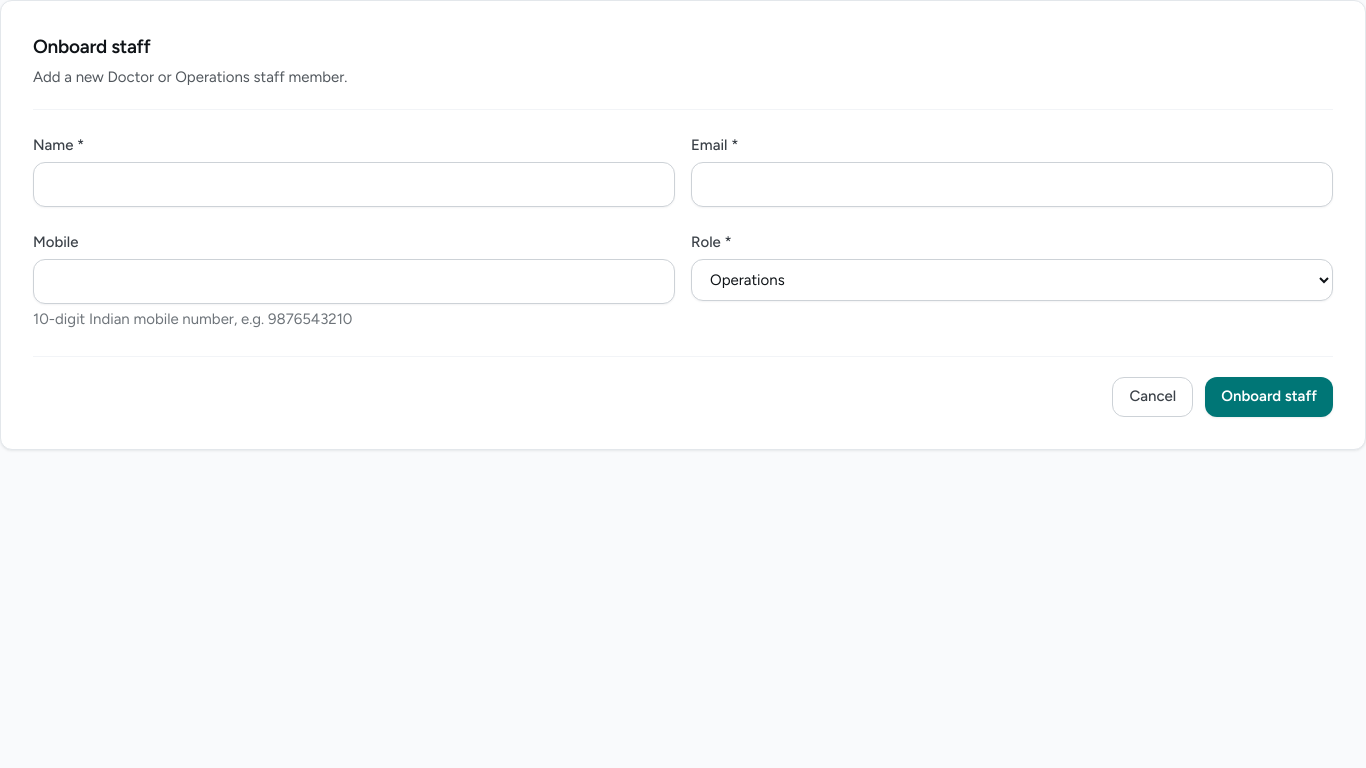
Test: OnboardStaffForm › surfaces a duplicate-email server error
Type "Jane Ops" into the field labelled "Name *".
click(354, 184); type("Jane Ops")  # box 33,162 -> 675,207
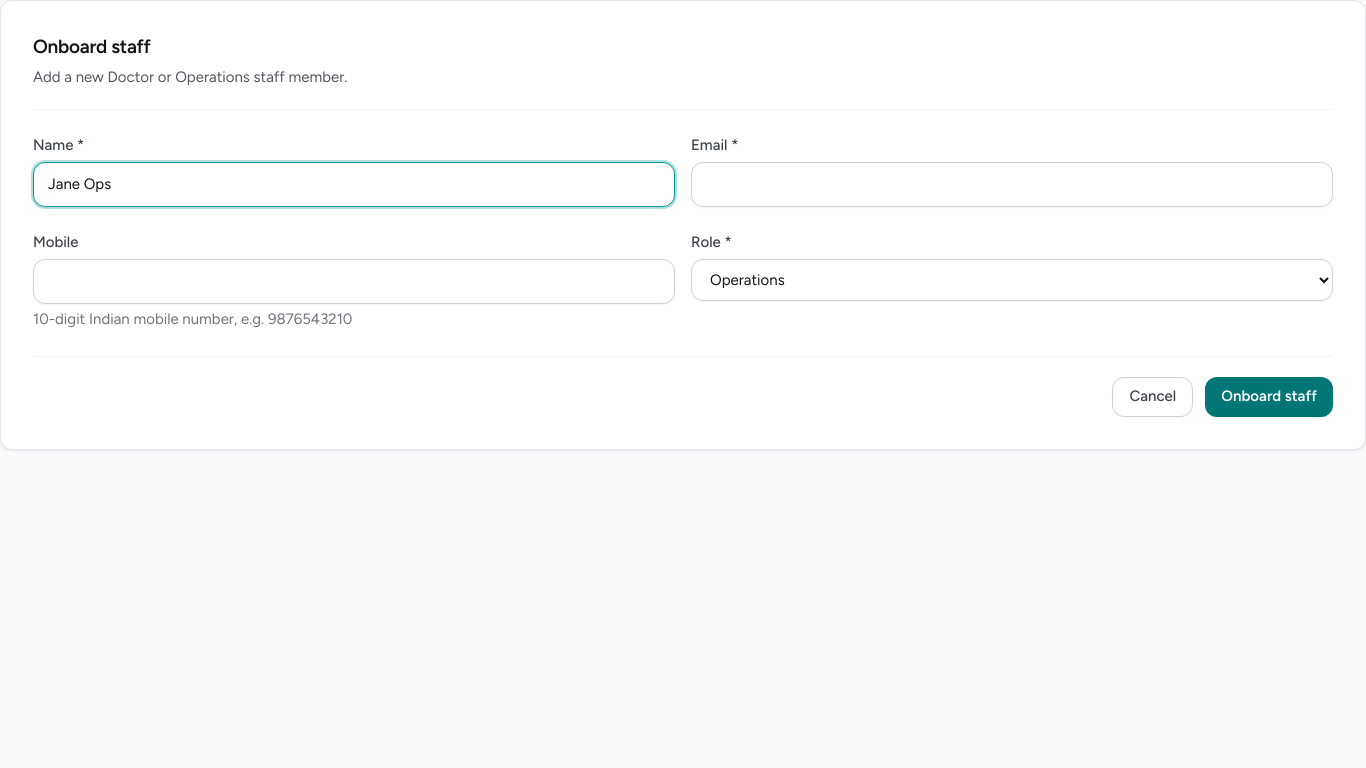
Type "ops@clinic.example" into the field labelled "Email *".
click(1012, 184); type("ops@clinic.example")  # box 691,162 -> 1333,207
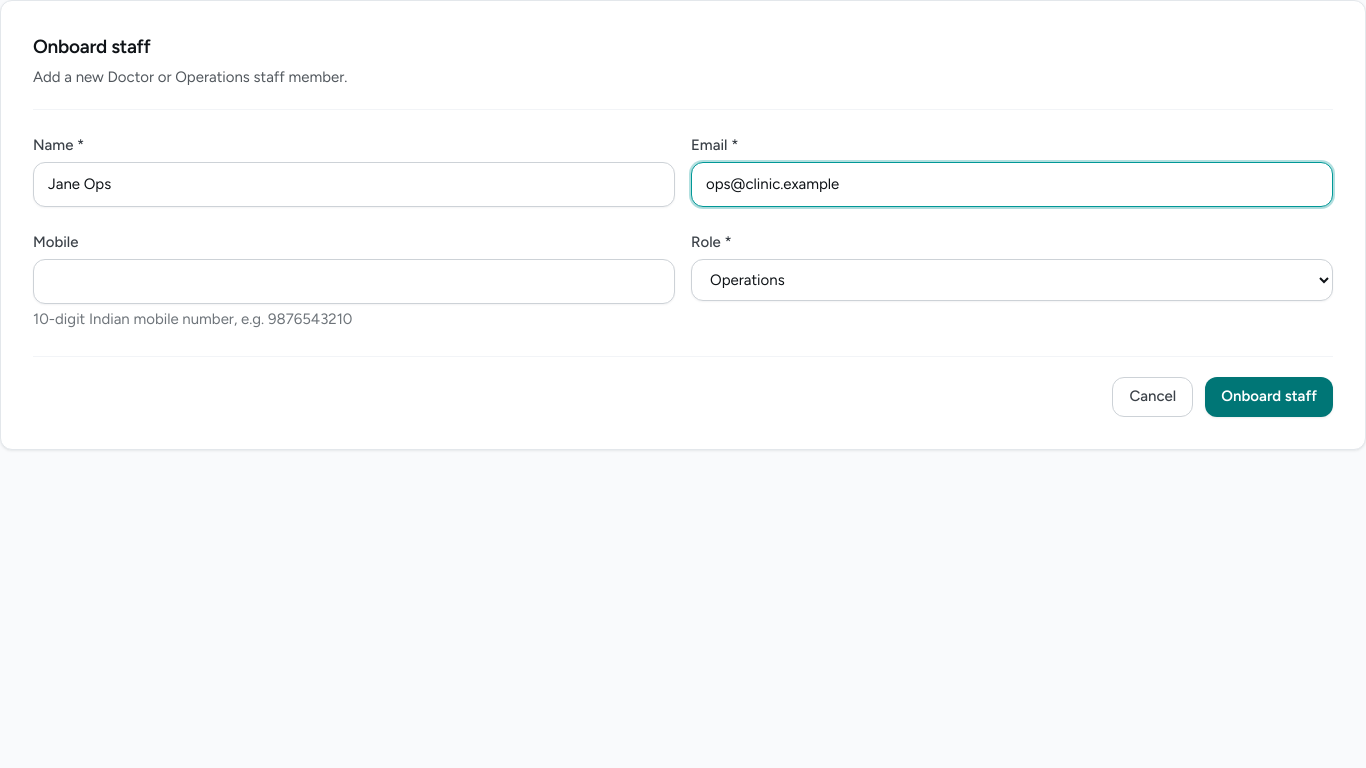
Click the button "Onboard staff".
click(1269, 397)  # box 1205,377 -> 1333,417
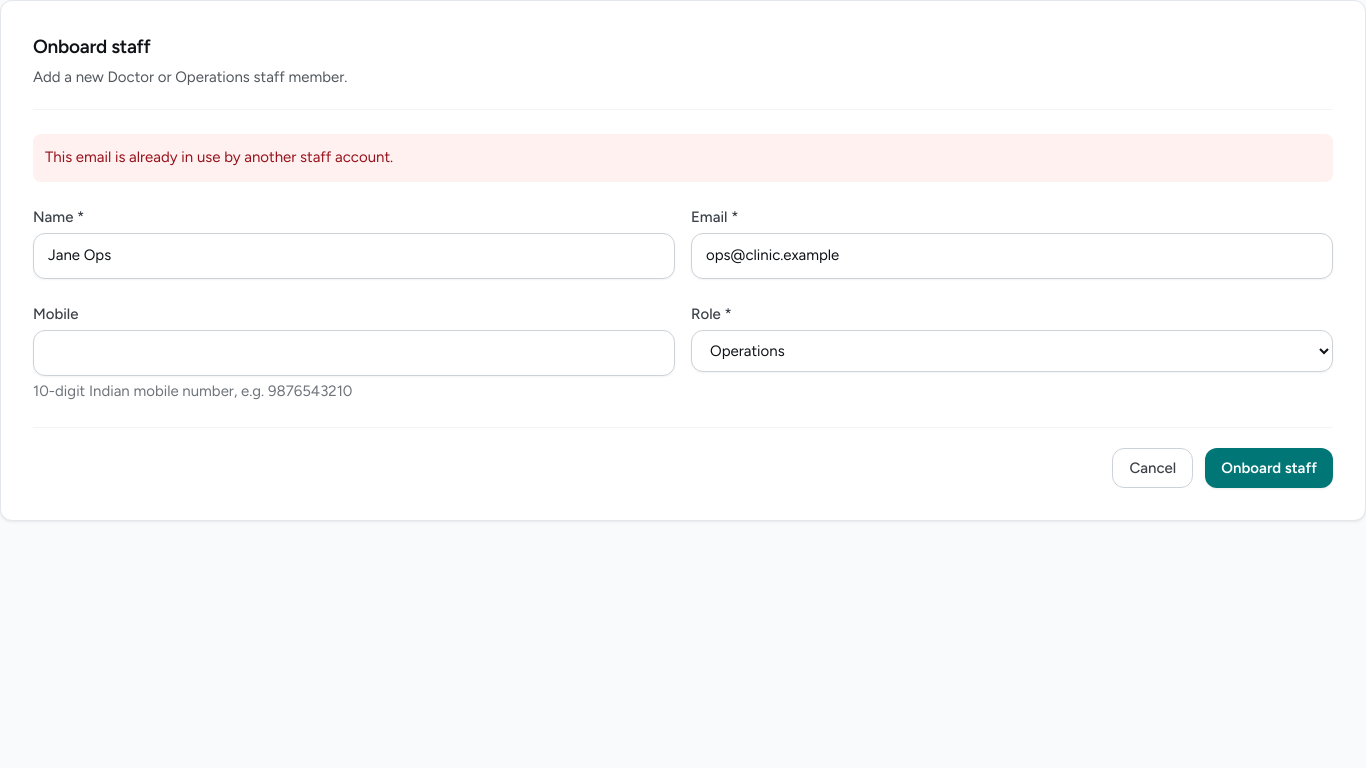
Check: the message shows "already in use", box 45,148 -> 393,166
